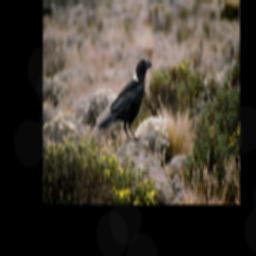Crow: (97, 55, 153, 145)
